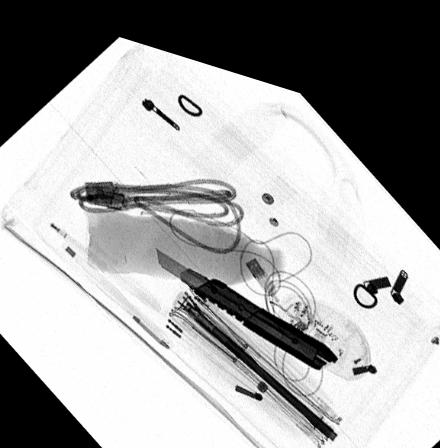Knife: (153, 238, 338, 351)
